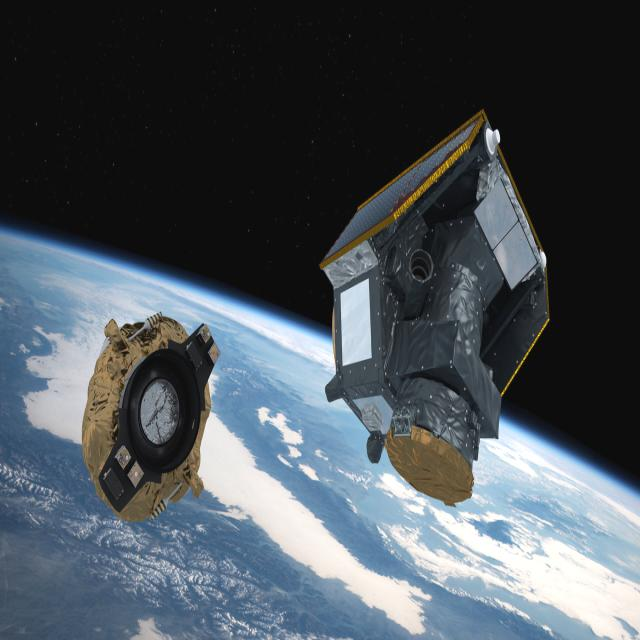medium_debris: (305, 101, 562, 518), (72, 298, 230, 544)
